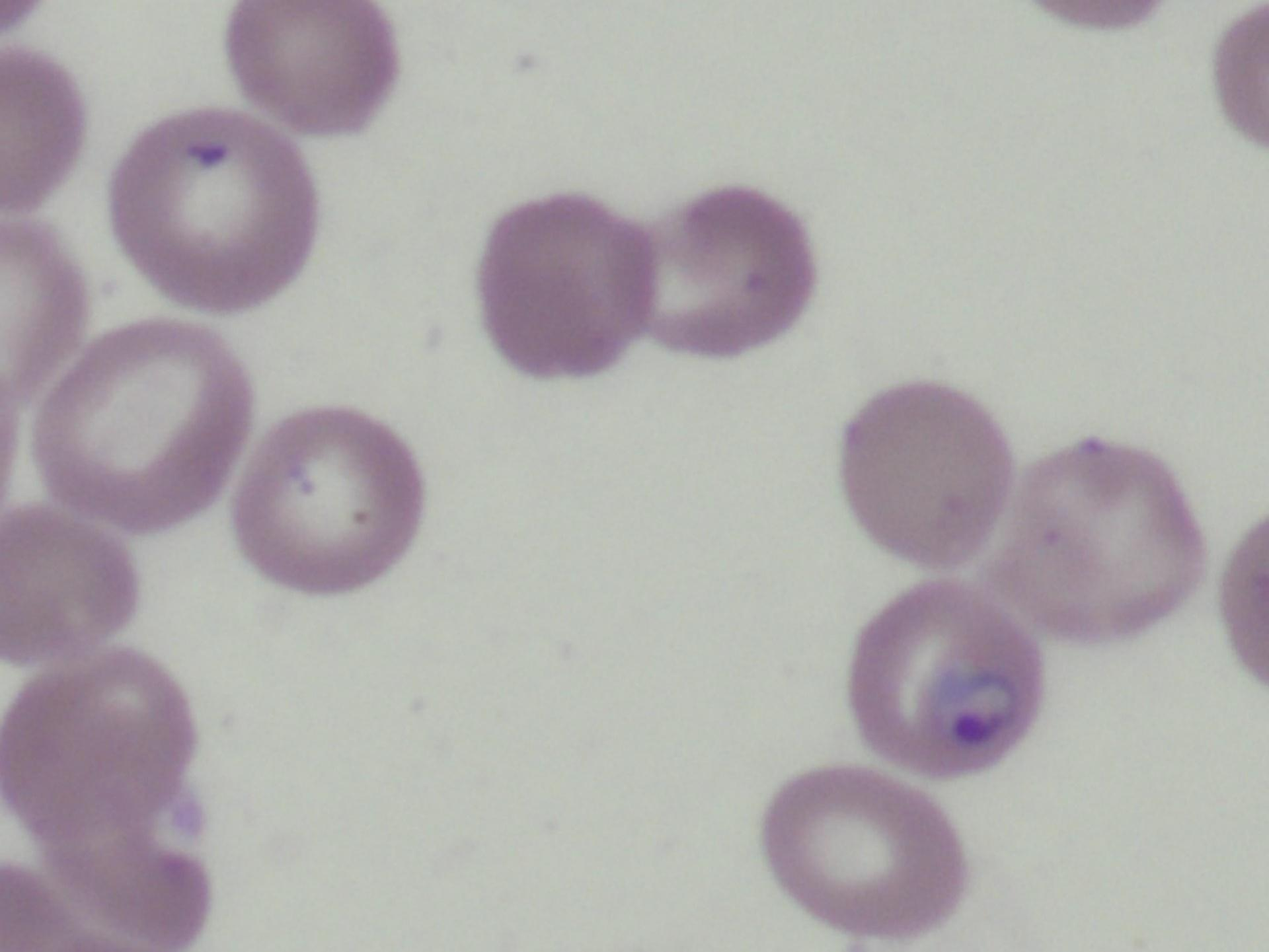Infected: (846, 575, 1041, 777)
Uninfected: (110, 100, 326, 322), (35, 320, 251, 535), (991, 439, 1207, 646), (758, 762, 974, 942), (0, 642, 194, 832), (229, 406, 420, 595), (837, 377, 1009, 569), (628, 188, 814, 361), (480, 199, 655, 372), (227, 0, 400, 148), (0, 505, 145, 667)
